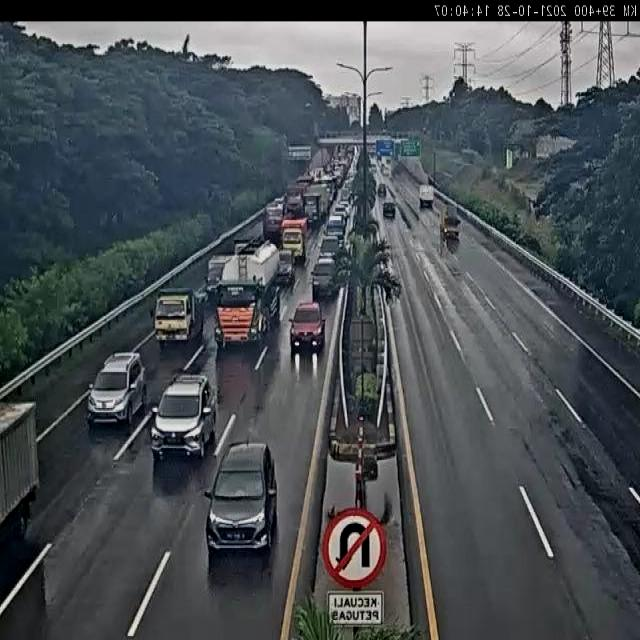Car: (192, 436, 296, 558), (150, 372, 218, 460), (86, 351, 148, 427), (276, 249, 295, 287), (382, 201, 396, 219)
Truck: (211, 239, 282, 351), (1, 400, 39, 558), (154, 286, 207, 348), (334, 274, 355, 392), (289, 300, 327, 355), (280, 217, 309, 263), (206, 254, 233, 299), (311, 256, 338, 299), (352, 464, 374, 514), (263, 202, 285, 244), (310, 182, 331, 218), (441, 205, 461, 240), (308, 147, 331, 177), (319, 234, 342, 262), (516, 232, 544, 255), (316, 172, 338, 201), (234, 236, 263, 256), (357, 276, 370, 319), (295, 175, 315, 202), (325, 217, 345, 244), (360, 454, 378, 484), (286, 182, 305, 209), (372, 247, 392, 272), (372, 271, 388, 301), (529, 283, 555, 301), (287, 147, 307, 170), (418, 184, 434, 209), (337, 190, 352, 216), (432, 171, 452, 190), (444, 232, 460, 255), (336, 264, 350, 289), (348, 99, 360, 128), (332, 162, 346, 186), (392, 138, 408, 159), (526, 197, 541, 219), (333, 209, 348, 231), (389, 275, 401, 302), (170, 370, 190, 386), (460, 148, 481, 163), (376, 139, 392, 157), (366, 215, 378, 238), (342, 149, 353, 173), (195, 288, 208, 308), (206, 278, 218, 299), (324, 130, 355, 138), (357, 402, 369, 422), (440, 206, 448, 236), (310, 274, 318, 303), (308, 208, 320, 227), (368, 188, 377, 211), (348, 189, 358, 207), (449, 204, 458, 224), (368, 158, 378, 175), (367, 142, 377, 159), (305, 170, 315, 187), (377, 182, 386, 198), (506, 148, 512, 170), (346, 146, 355, 160), (380, 162, 389, 176), (280, 134, 288, 149), (274, 196, 284, 207), (149, 305, 155, 323), (383, 157, 391, 170), (428, 175, 436, 188), (388, 185, 396, 198), (392, 137, 402, 146), (419, 126, 428, 136), (313, 134, 321, 145), (438, 130, 446, 141), (376, 151, 382, 163), (380, 130, 390, 136)
